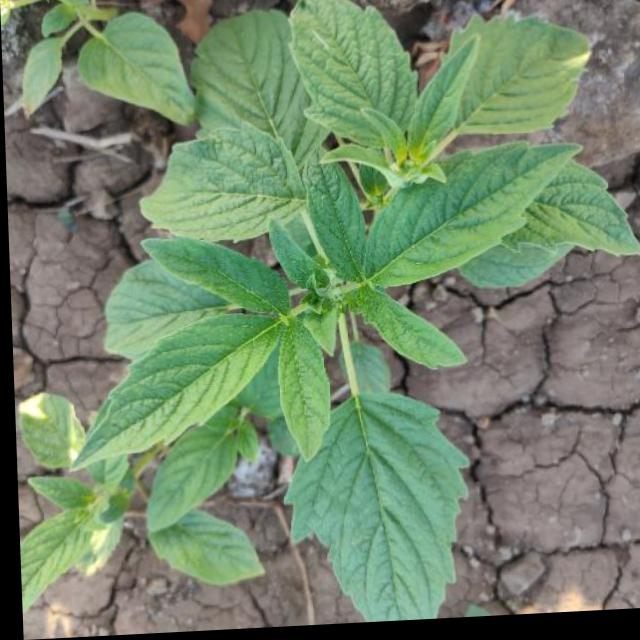crop: (74, 0, 640, 612)
